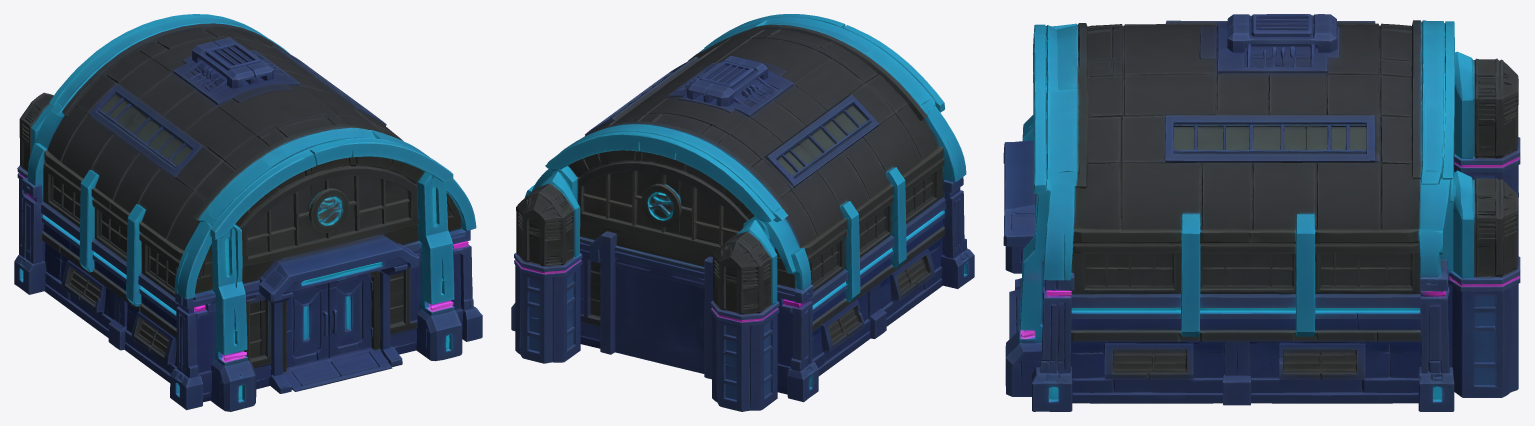
Rendered from source.glb.
3 views of the same model, side by side, from view 1: azimuth 30°, elevation 25°; view 2: azimuth 150°, elevation 25°; view 3: azimuth 270°, elevation 25° (orthographic). The views are drawn at different scales.
Visible parts, largest first — view 1: model; view 2: model; view 3: model.
Part boxes in pixels (bbox=[...]): model: bbox=[14, 14, 482, 411]; model: bbox=[511, 14, 974, 411]; model: bbox=[1003, 14, 1520, 411].
Bounding box in the file's own units: 1.54 × 1.23 × 1.9.
1 material, 1 textured.
